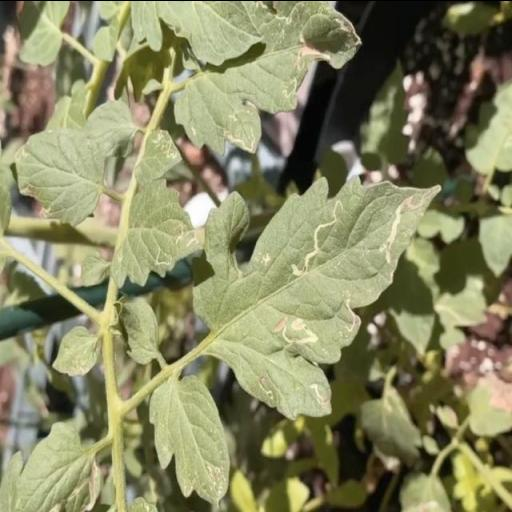disease_tomato: (192, 172, 444, 418)
